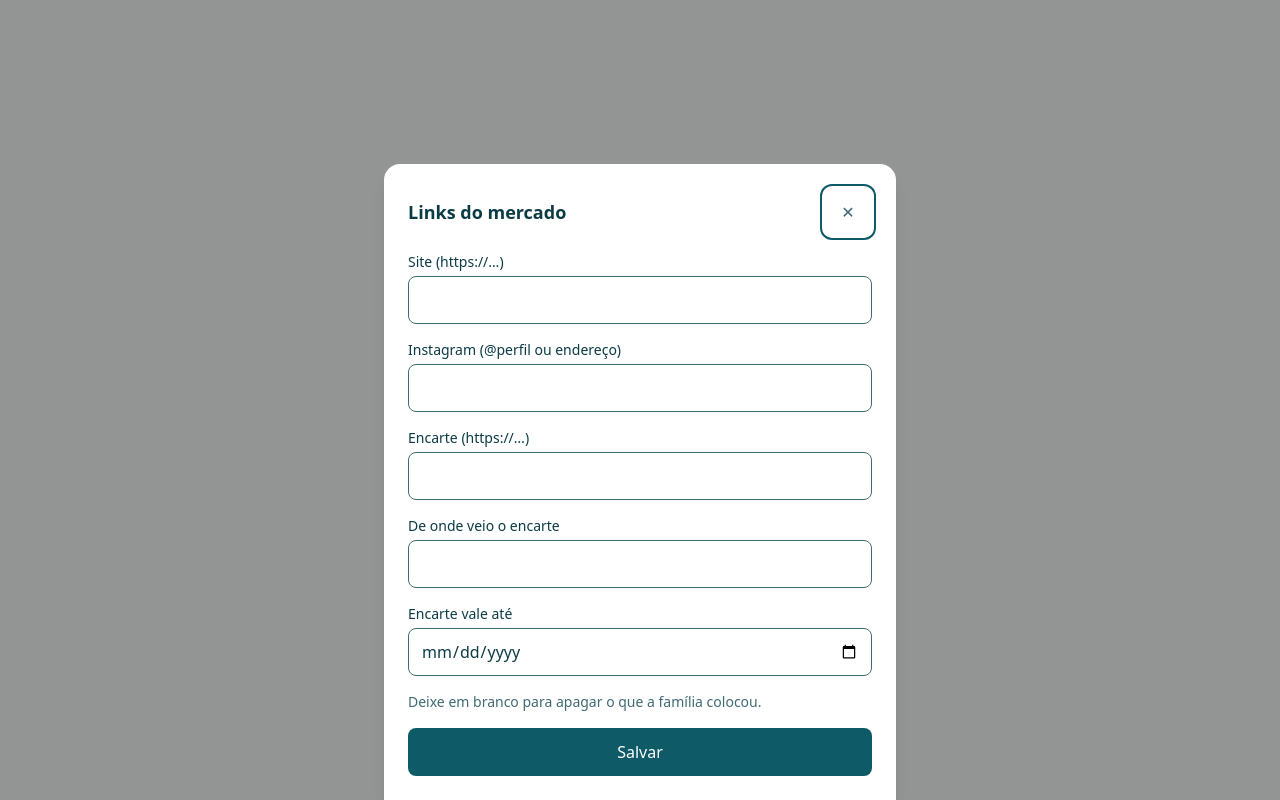
LinksSheet › rejectsHttp
In the field labelled "Site (https://…)": (640, 300) [408,276,872,324], type "http://x.example"
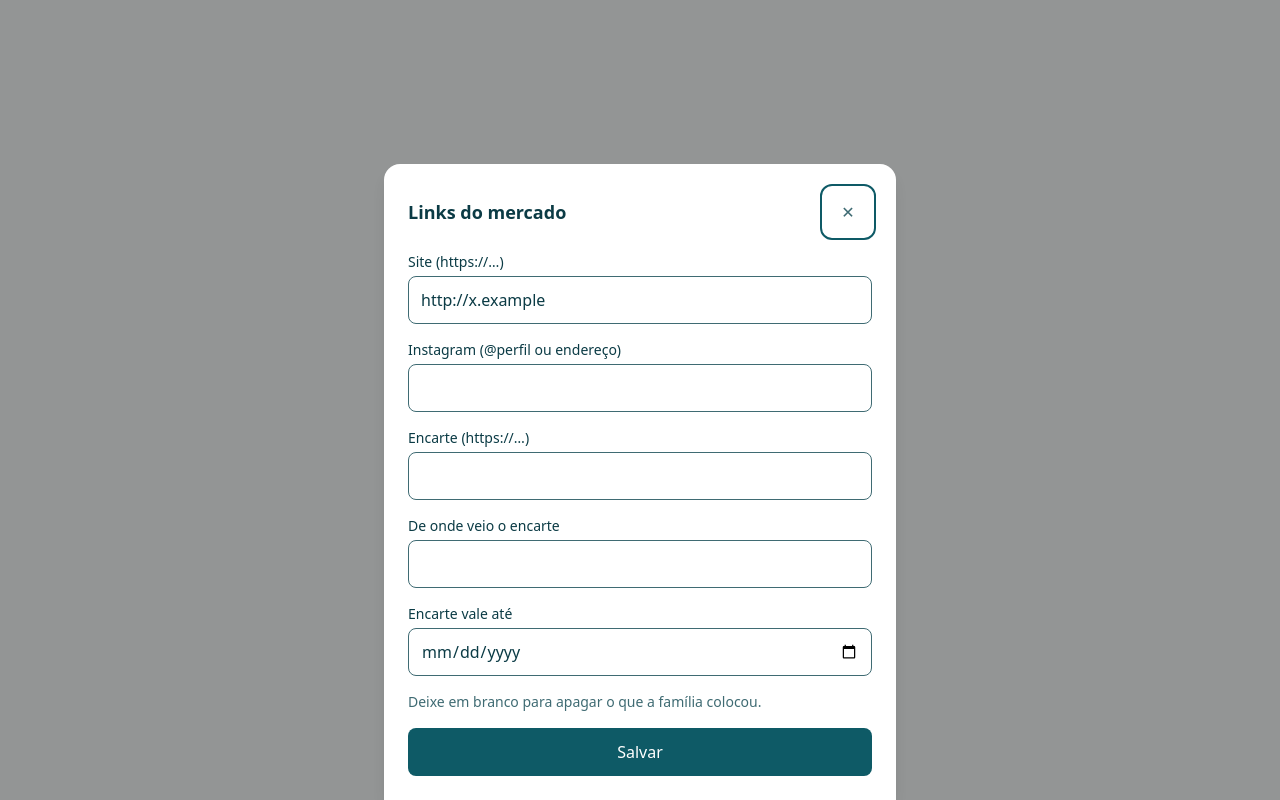
Click the button "Salvar": (640, 752) [408,728,872,776]
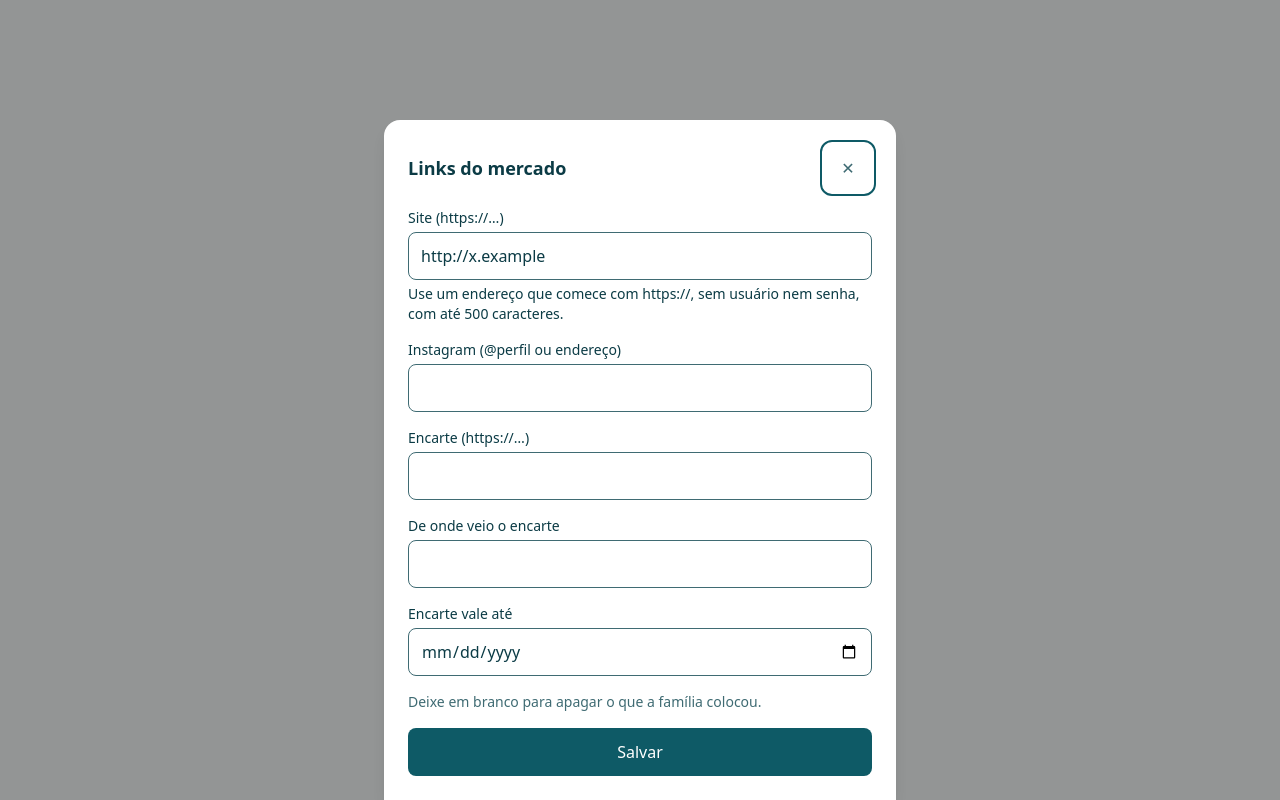
expect the text "comece com https" is shown: met, box [408,284,859,323]
